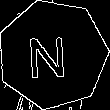N_N: (31, 28, 75, 80)
